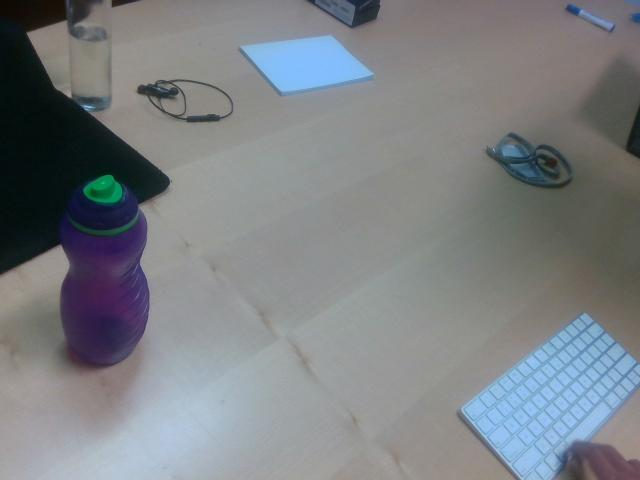bottle: (59, 173, 150, 367)
